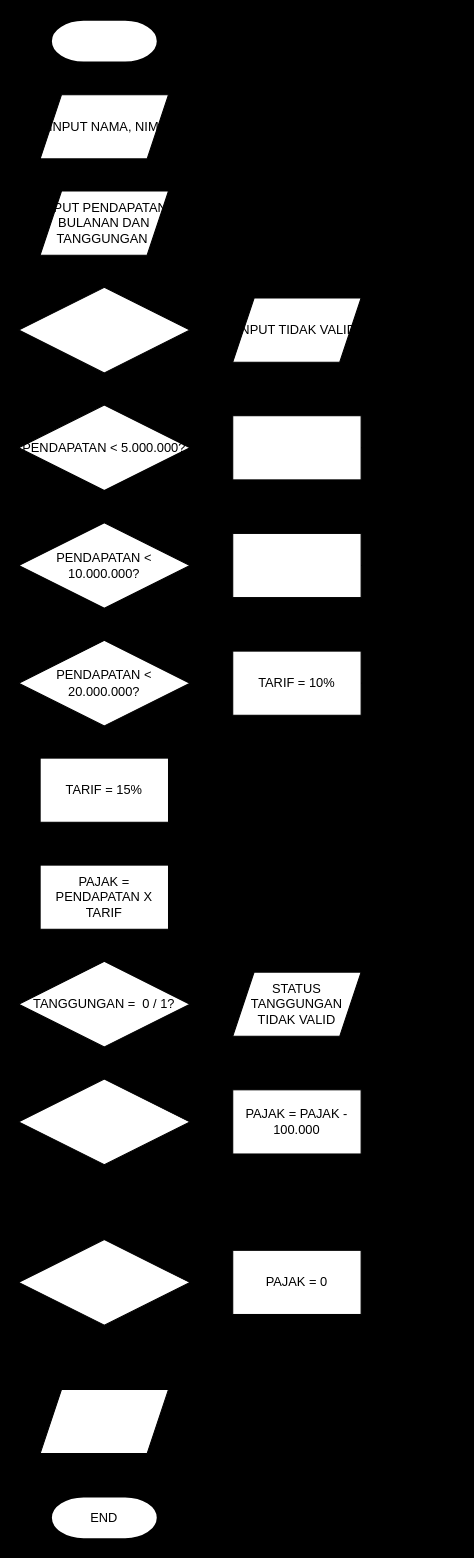
The diagram is 474 pixels wide and 1558 high, and some of its shapes have lost their labels. The centre of each missing label's shape, as x and y in pixels:
"PAJAK < 0?" belongs at [104,1282].
"PENDAPATAN < 0?" belongs at [104,329].
"START" belongs at [103,40].
"TAMPILKAN NAMA, NIM, TARIF, PAJAK AKHIR" belongs at [104,1421].
"TANGGUNGAN = 1?" belongs at [104,1121].
"TARIF = 0%" belongs at [296,447].
"TARIF = 5%" belongs at [296,565].
